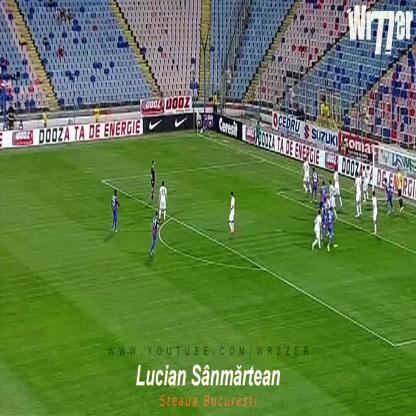corner kick: (180, 91, 225, 170)
